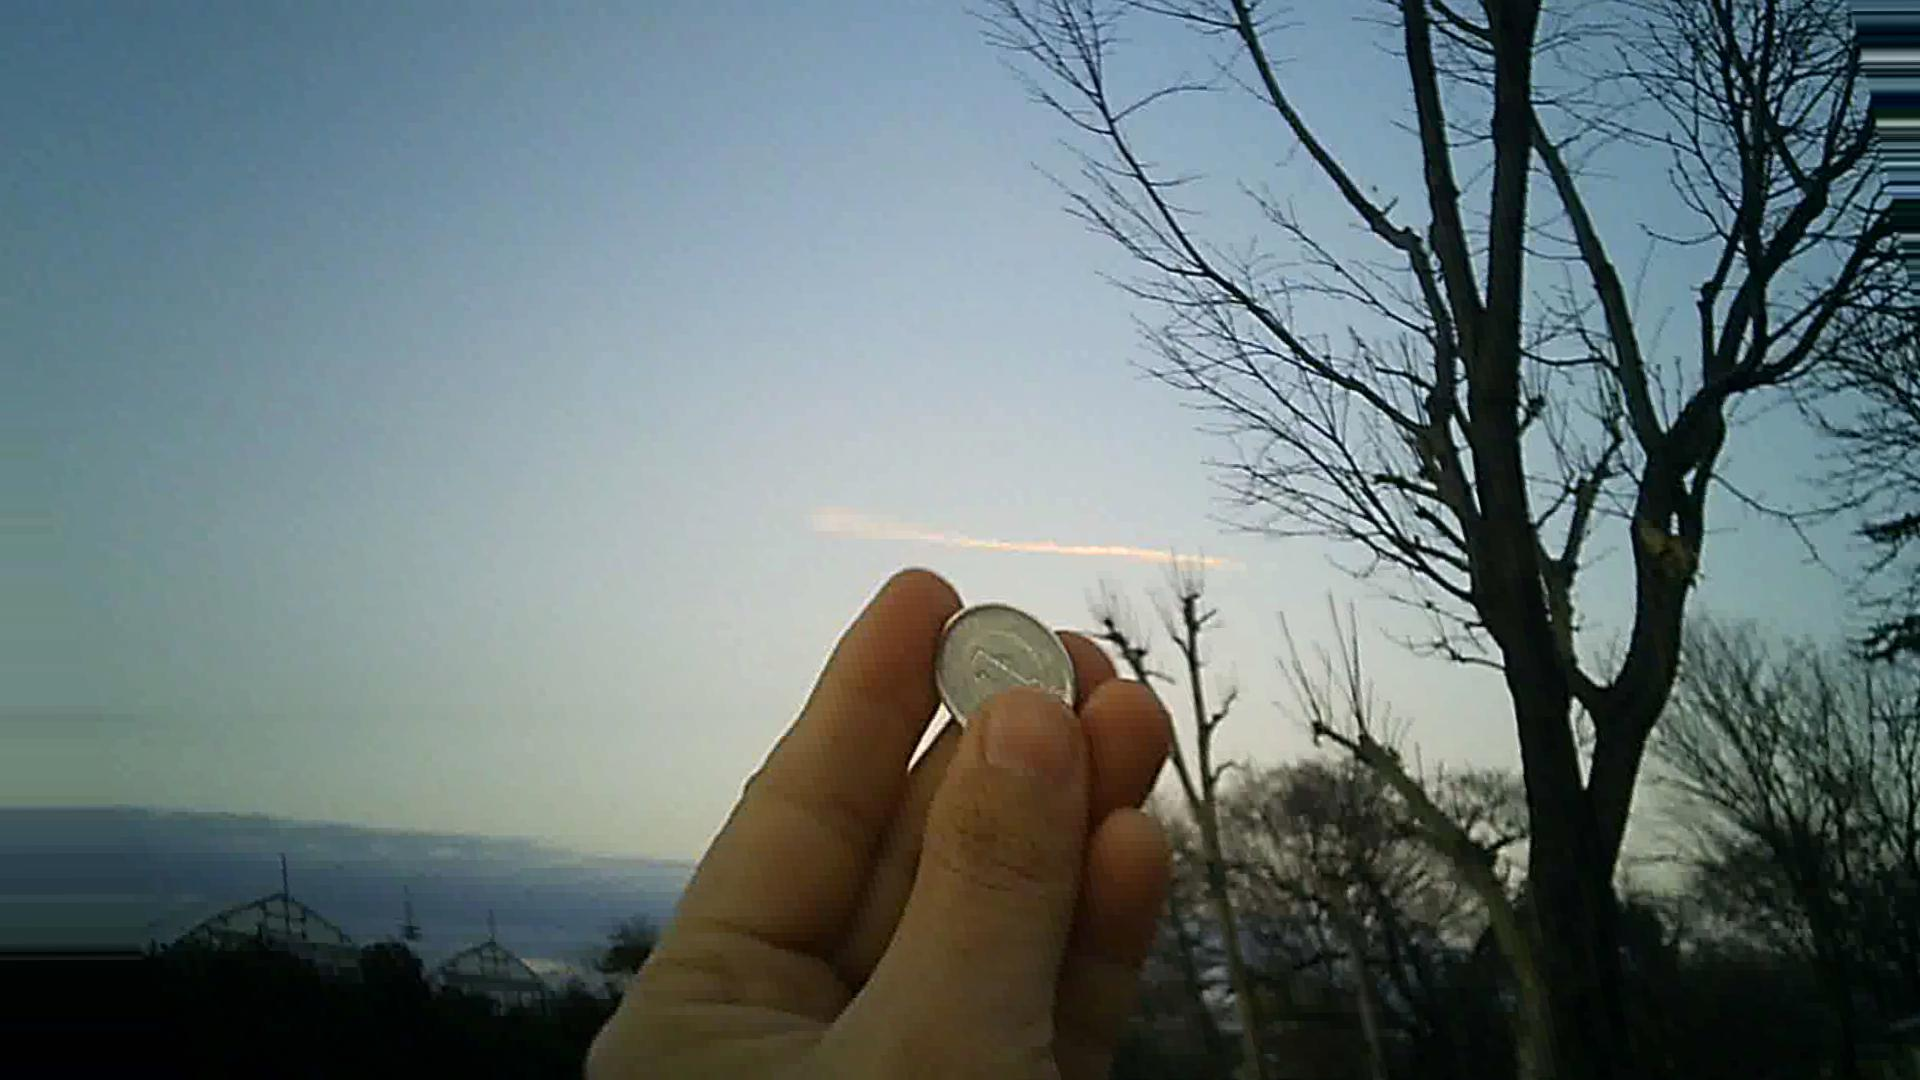1 Yen: (920, 603, 1091, 738)
